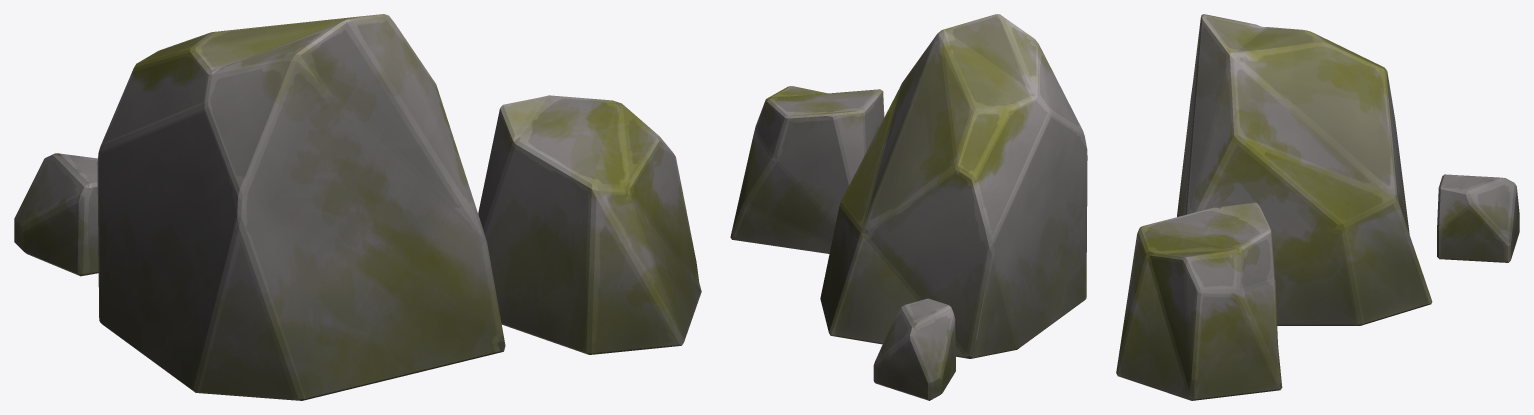
File: Stone.fbx
The picture shows the model from 3 angles, left to right: view 1: azimuth 30°, elevation 25°; view 2: azimuth 150°, elevation 25°; view 3: azimuth 270°, elevation 25°; orthographic projection. The views are drawn at different scales.
Visible parts, largest first — view 1: Cube, Cube.001; view 2: Cube, Cube.001; view 3: Cube, Cube.001.
Boxes of the visible parts, <box> form: Cube: <box>97,14,701,400</box>; Cube.001: <box>14,153,98,276</box>; Cube: <box>730,14,1087,358</box>; Cube.001: <box>873,298,955,400</box>; Cube: <box>1116,14,1432,400</box>; Cube.001: <box>1437,174,1519,262</box>.
Size of the model in its own units: 283 by 196 by 276.
